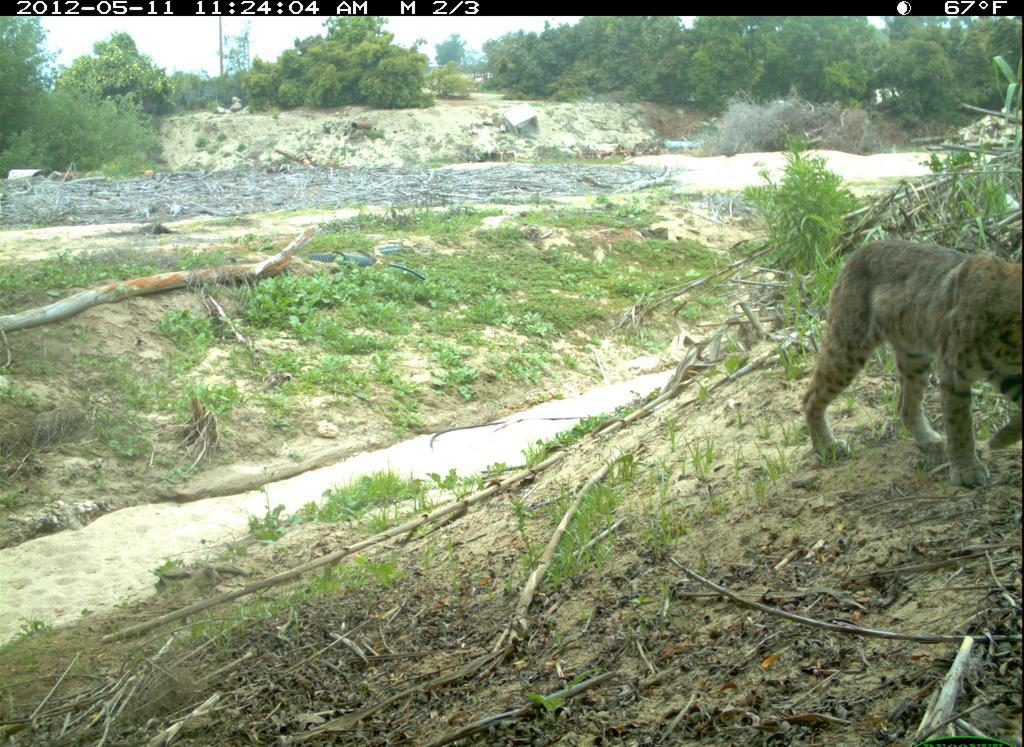bobcat: (795, 232, 1023, 496)
